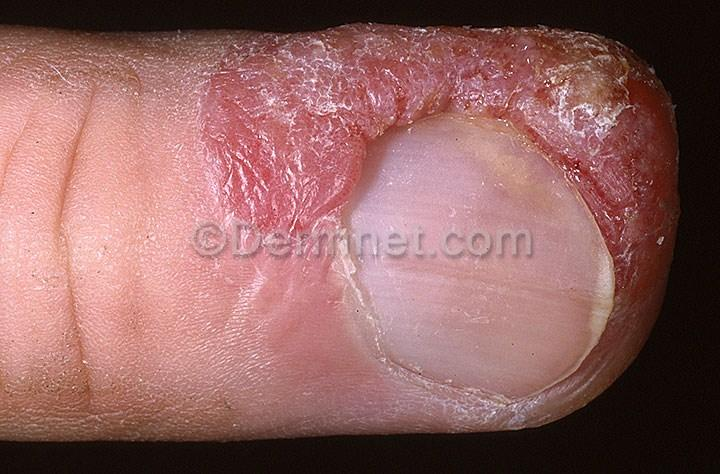Eczema: (175, 37, 360, 191), (583, 41, 668, 225), (389, 27, 555, 109)
